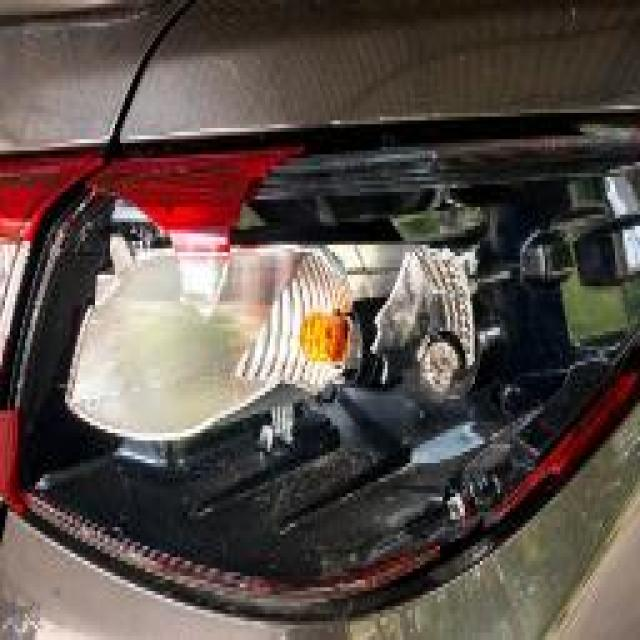Light: (8, 126, 640, 602)
